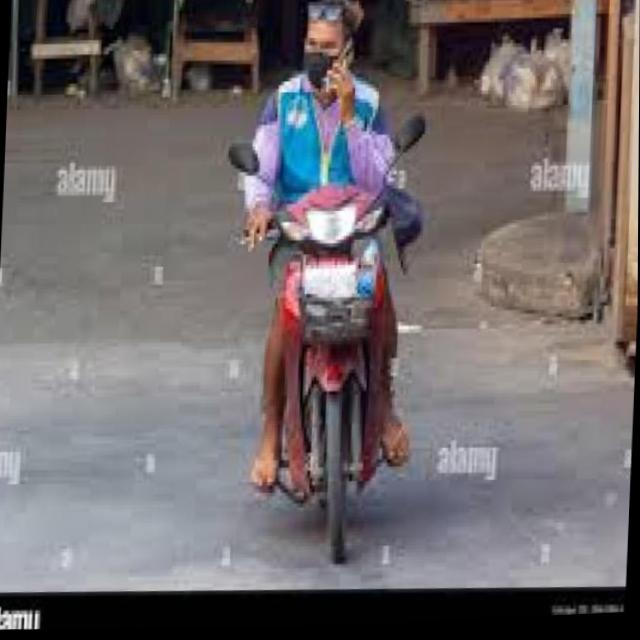USING_MOBILE: (325, 44, 391, 189)
